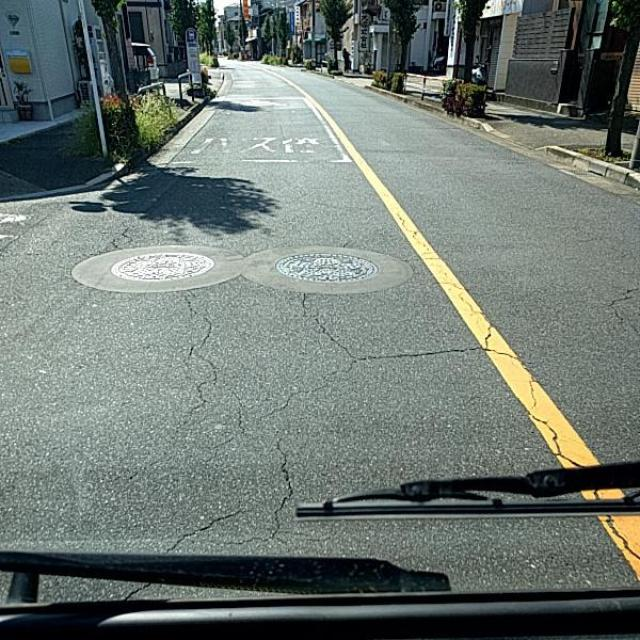Crack: (56, 184, 498, 483)
